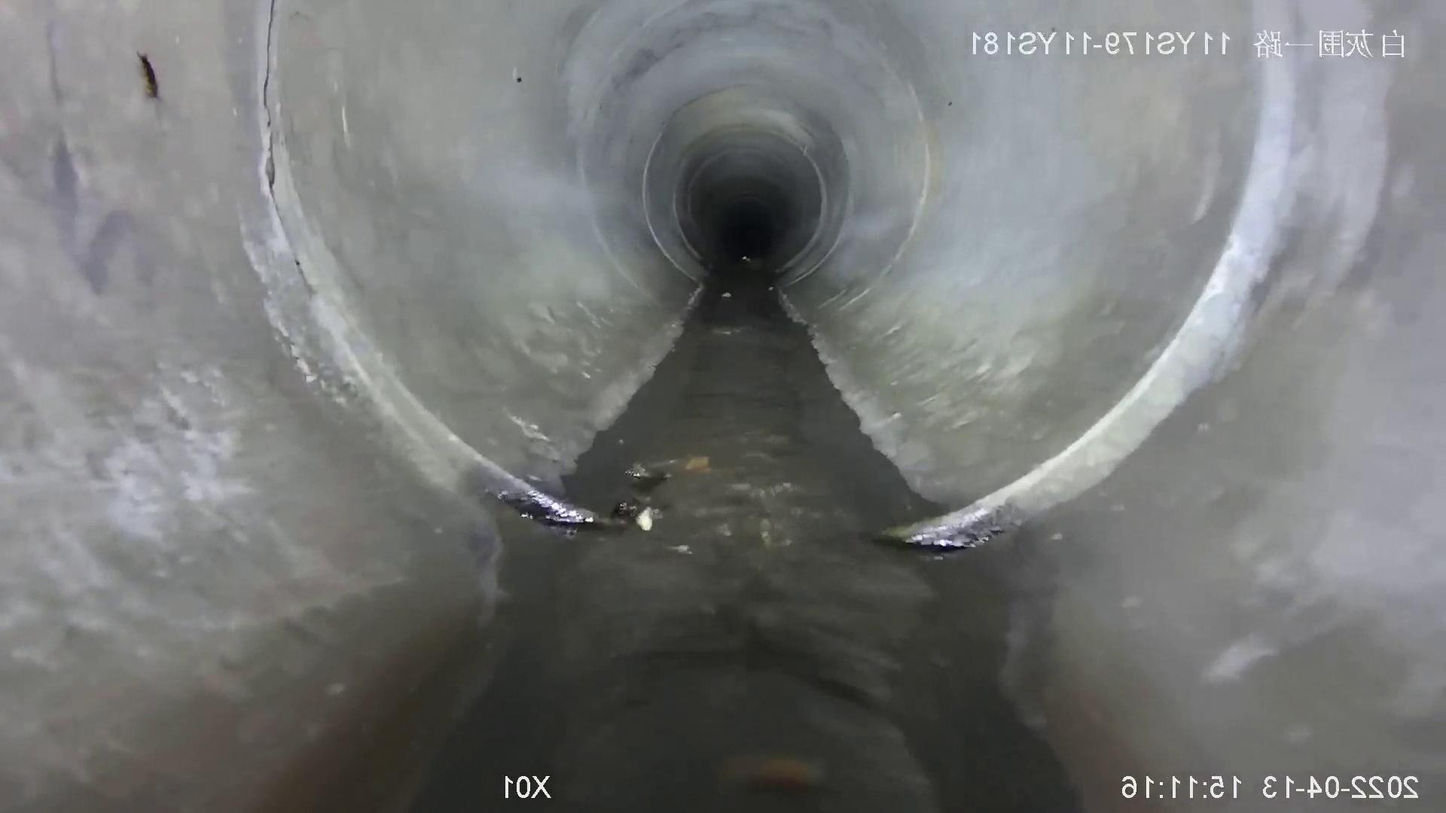CKTJ: (889, 0, 1296, 547), (255, 0, 598, 525)
